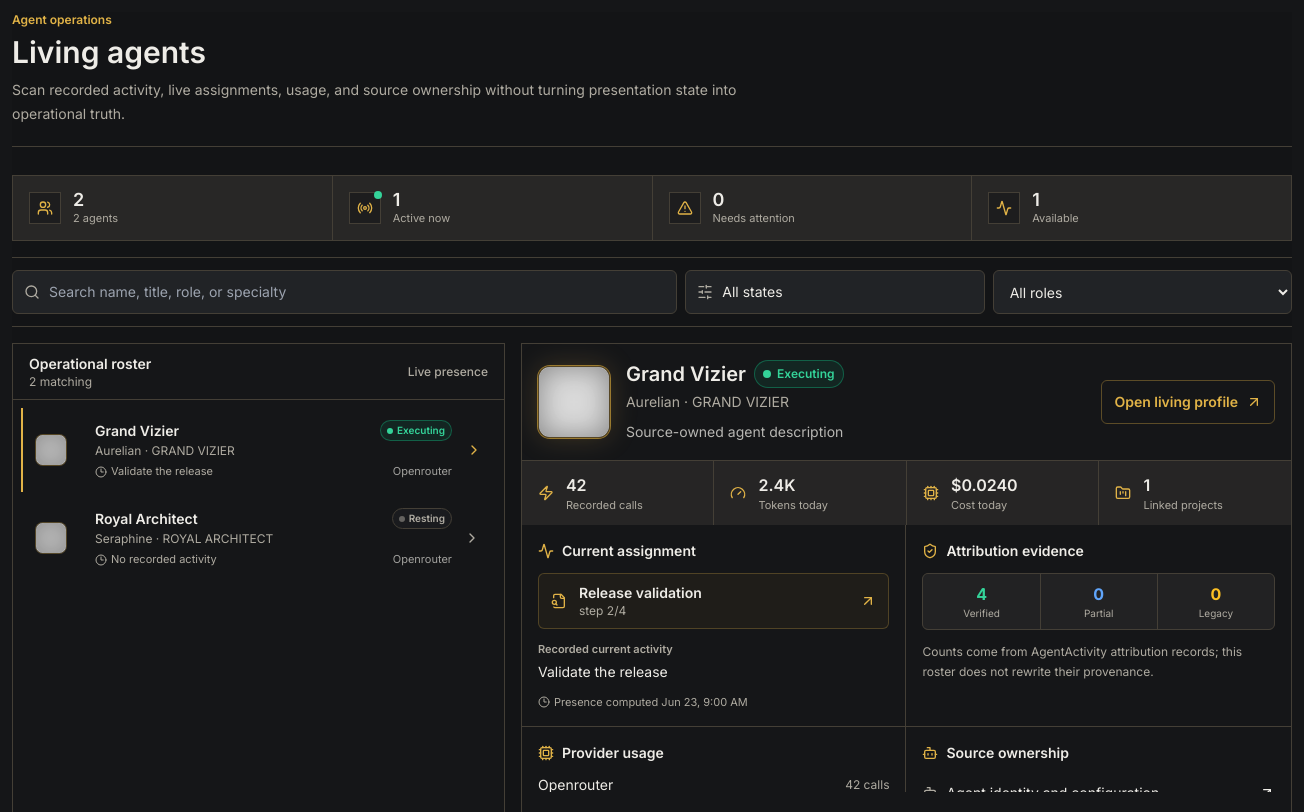
Test case: LivingAgentsPage operational roster › filters by operational state and role
expect the heading "Living agents" is shown: met, box x1=12 y1=34 x2=206 y2=70
Select "Active now" in the dropdown named "Operational state" at (835,292), box x1=685 y1=270 x2=985 y2=314
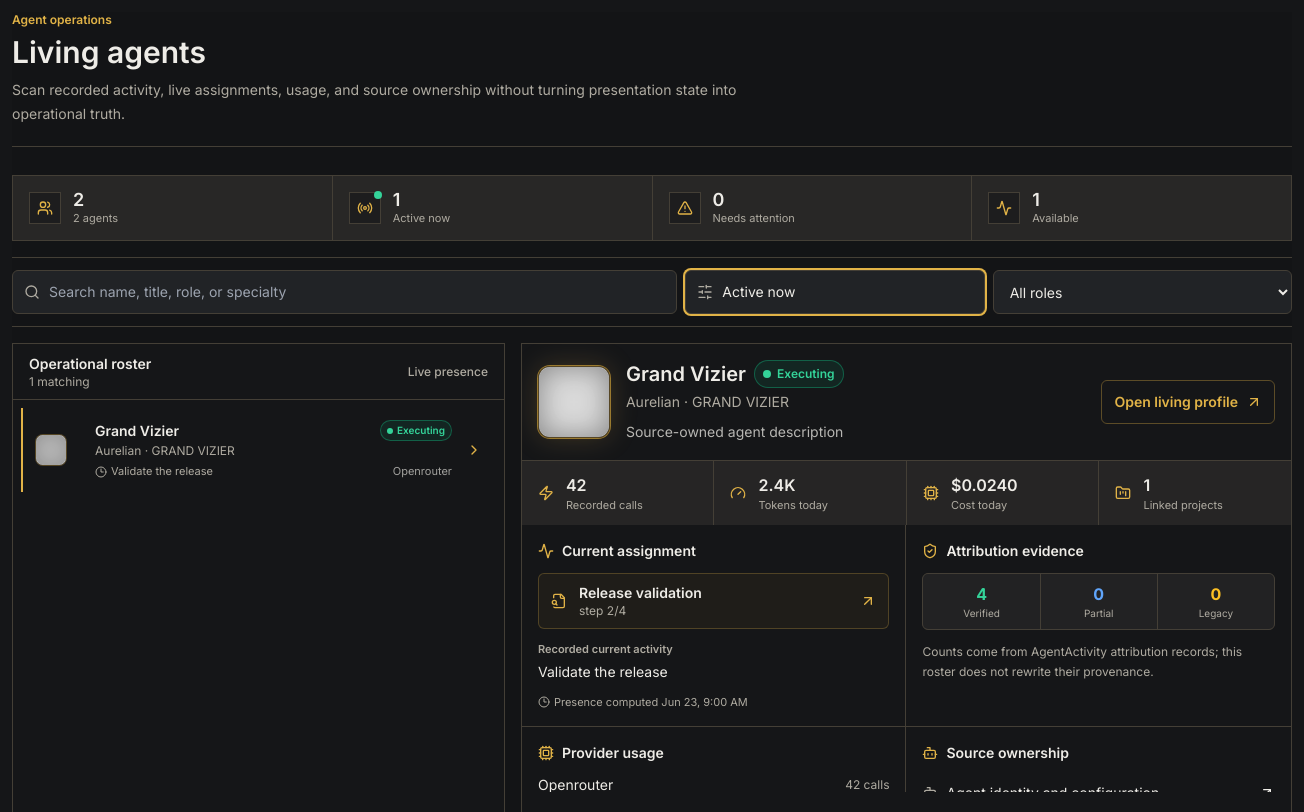
expect the text "Grand Vizier" is shown: met, box x1=95 y1=421 x2=179 y2=441
expect the button "Royal Architect" is gone: met
Select "All states" in the dropdown named "Operational state" at (835,292), box x1=685 y1=270 x2=985 y2=314
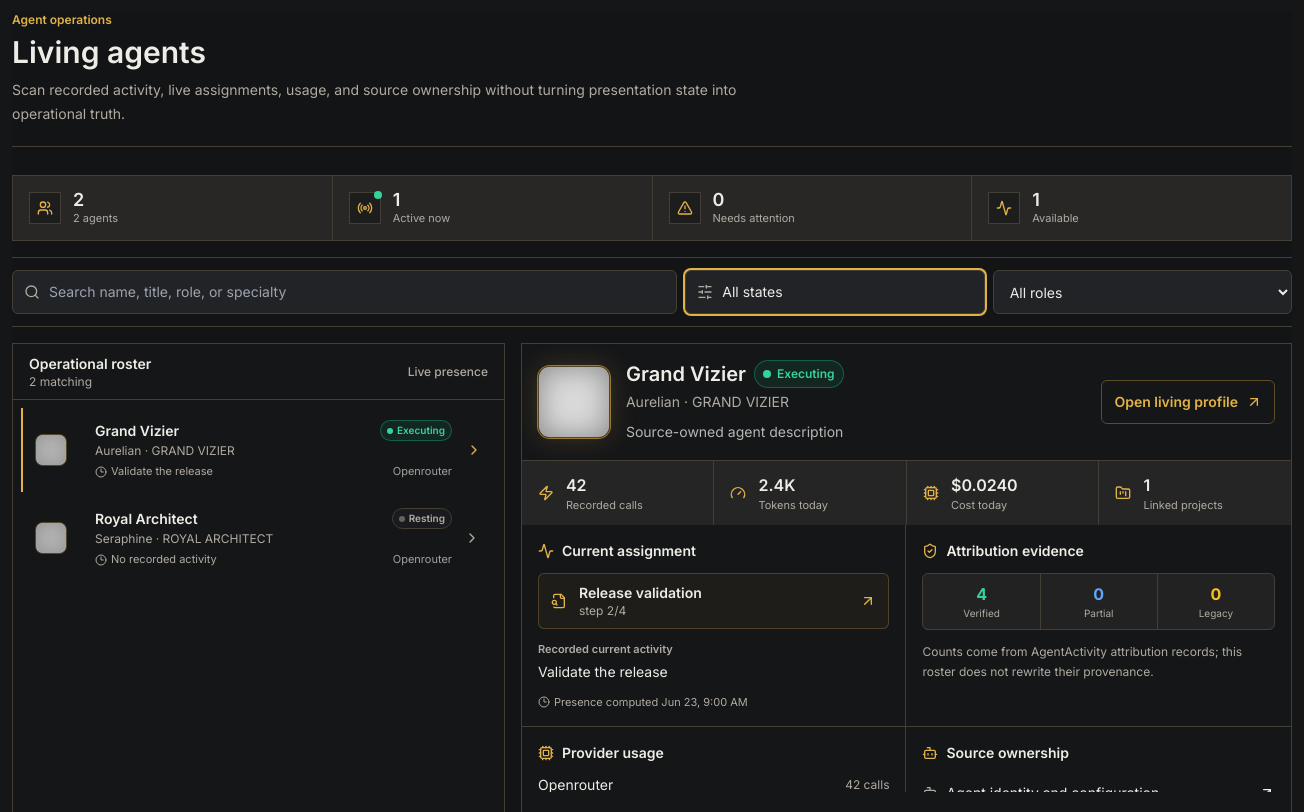
Select "ROYAL ARCHITECT" in the dropdown named "Agent role" at (1142,292), box x1=993 y1=270 x2=1292 y2=314
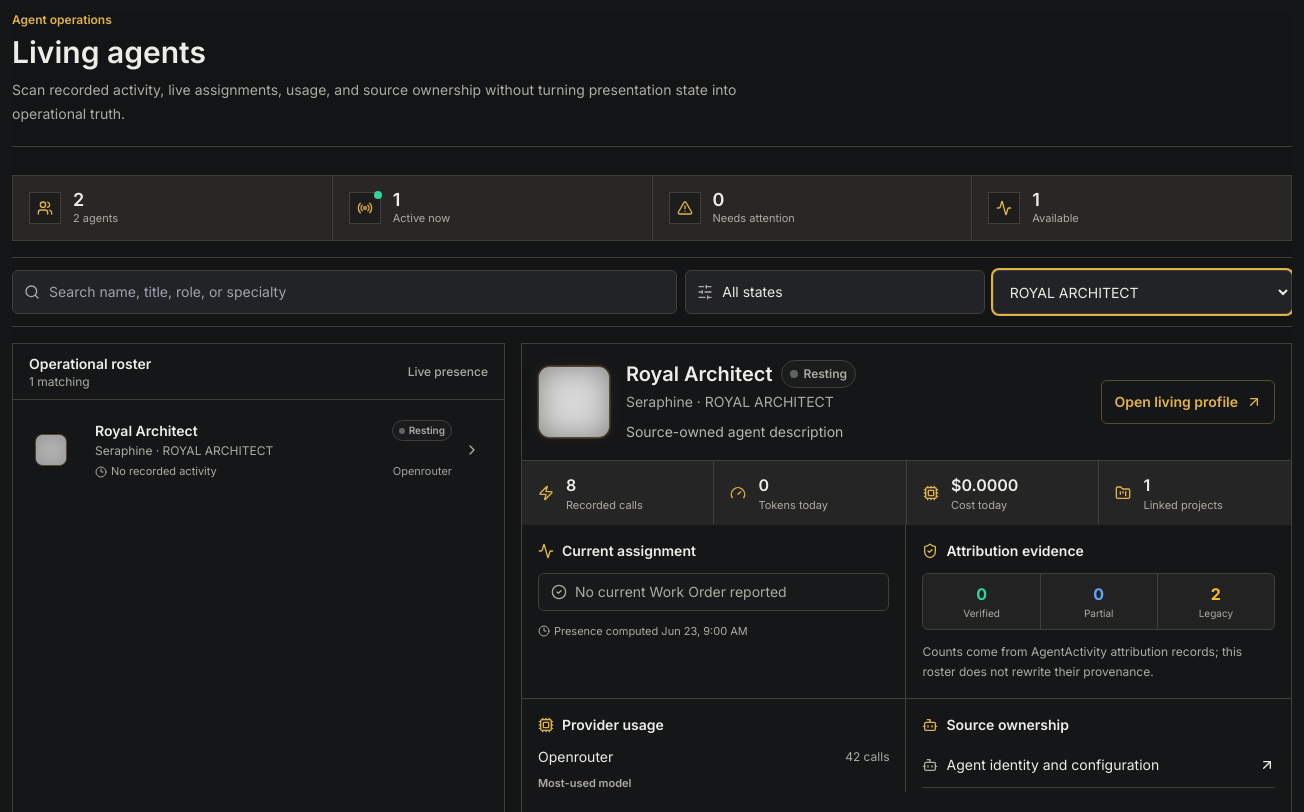
expect the text "Royal Architect" is shown: met, box x1=95 y1=421 x2=198 y2=441
expect the button "Grand Vizier" is gone: met
